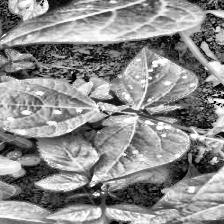Bean Rust: (95, 118, 192, 170), (0, 81, 87, 135), (173, 140, 224, 223), (121, 54, 195, 108)
